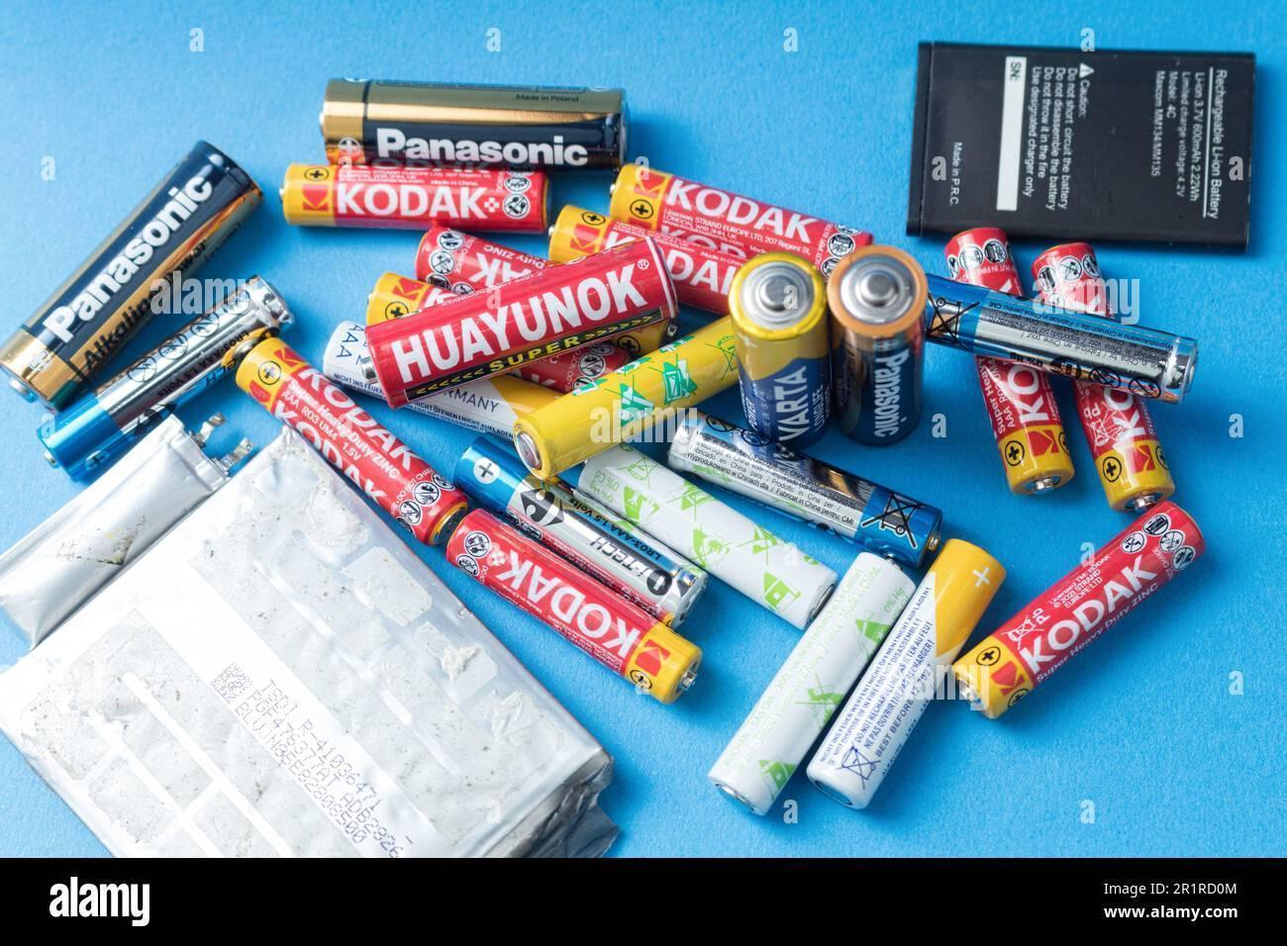AA: (0, 132, 272, 409), (704, 547, 924, 823), (32, 269, 308, 487), (802, 533, 1011, 819), (360, 231, 686, 411), (568, 440, 844, 635), (666, 404, 946, 577), (316, 71, 634, 178), (728, 244, 832, 458), (826, 239, 930, 450)
AAA: (947, 492, 1212, 727), (443, 505, 709, 706), (234, 332, 475, 553), (924, 266, 1203, 407), (277, 161, 557, 233)
